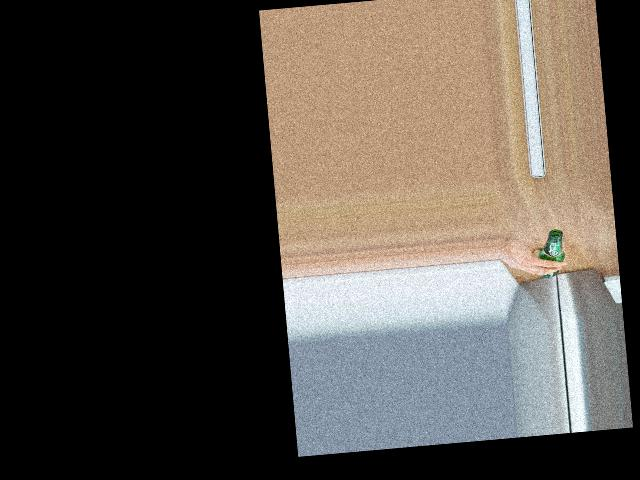beer: (535, 228, 566, 278)
